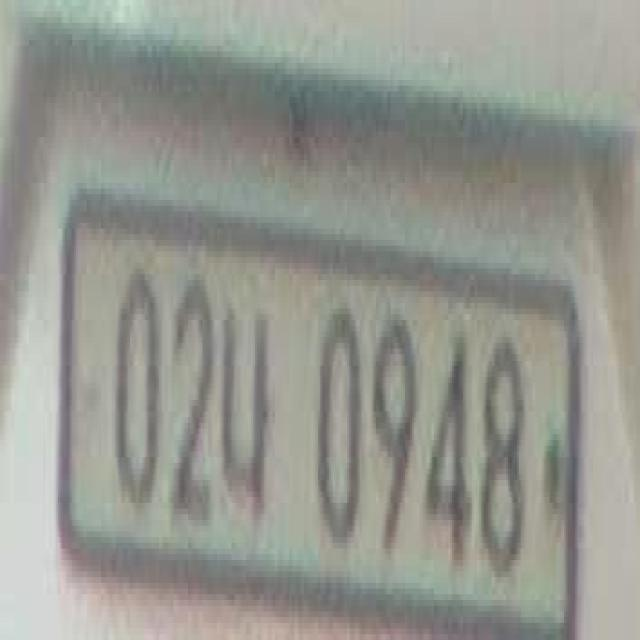illegal_plate: (64, 220, 586, 636)
